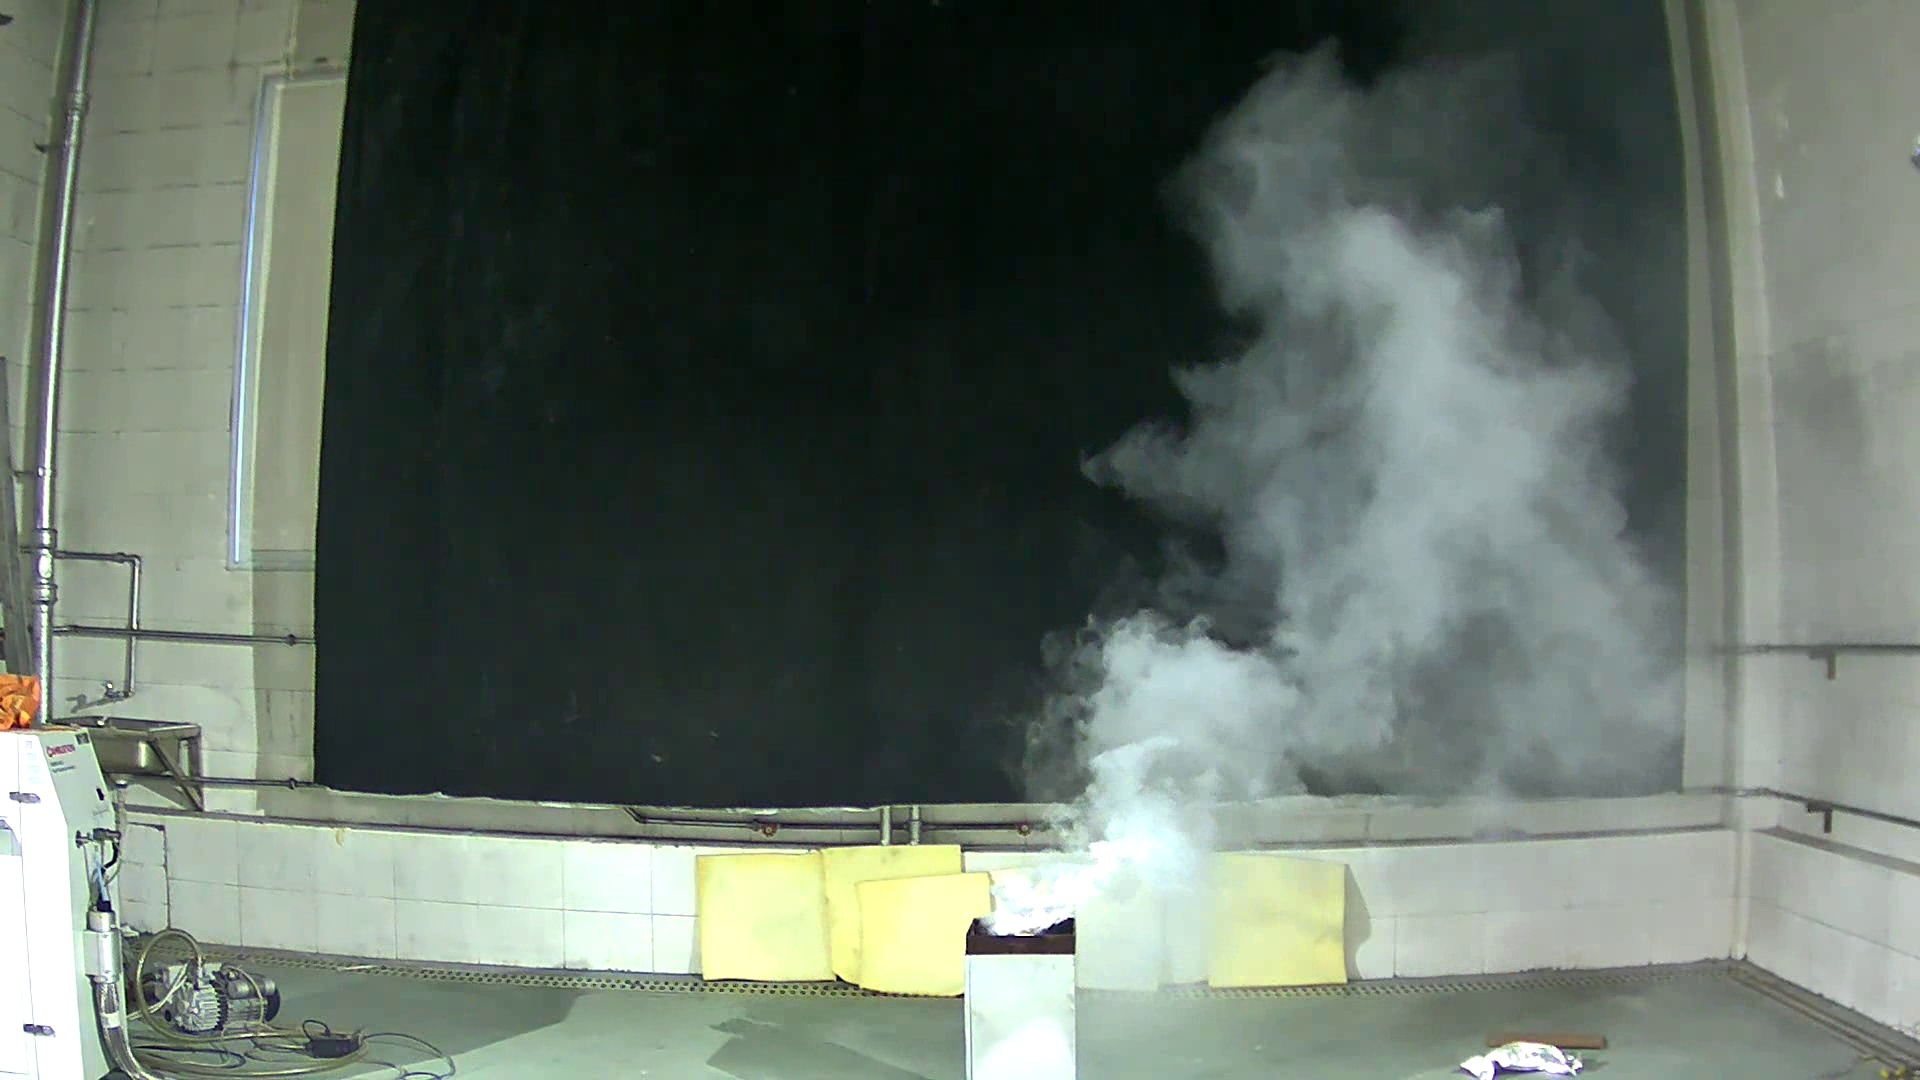smoke: (1019, 30, 1677, 918)
